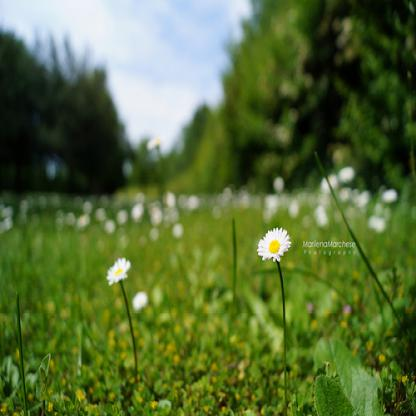ASTER: (13, 147, 398, 409)
